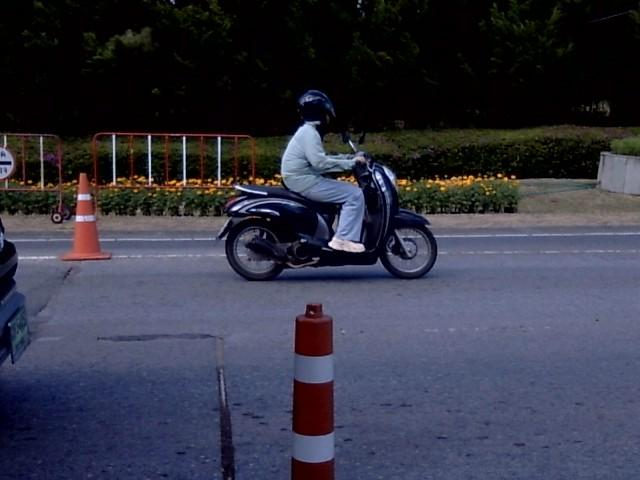helmet: (297, 89, 334, 125)
motor: (217, 155, 437, 279)
person: (280, 89, 365, 252)
